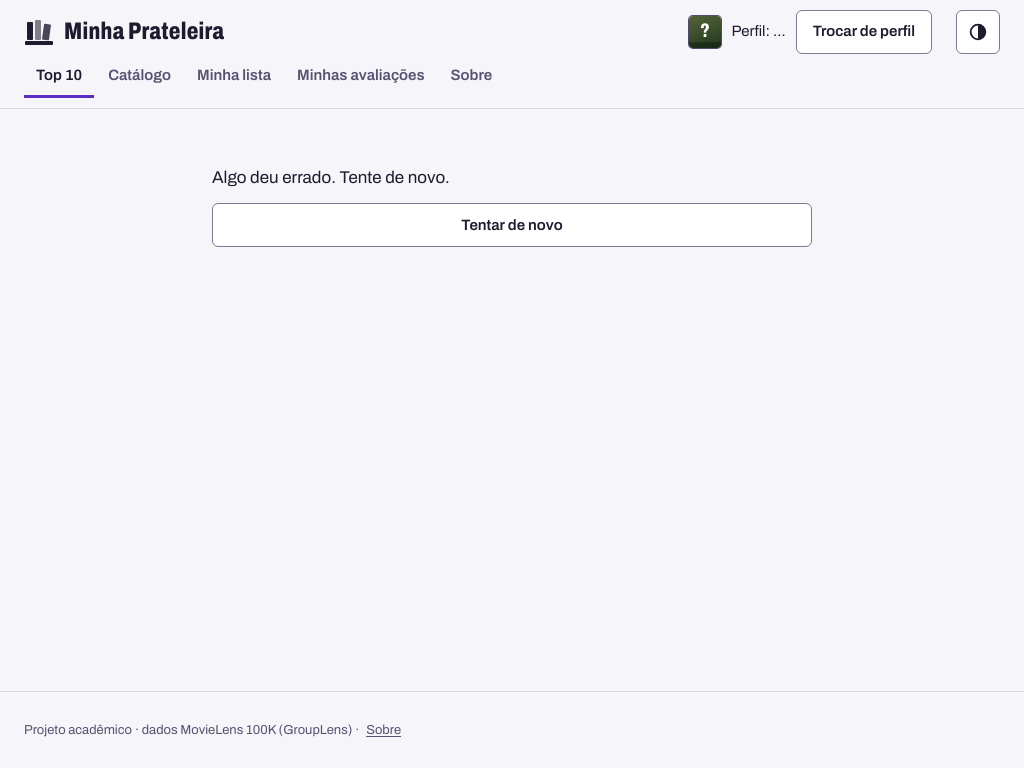
App › falha ao resolver o nome do perfil guardado mostra a mensagem e Tentar de novo refaz
Expected: the message "Algo deu errado. Tente de novo. Tentar de novo" is shown, [212,141,812,247]
Click the button "Tentar de novo".
click(512, 225)  # box [212,203,812,247]
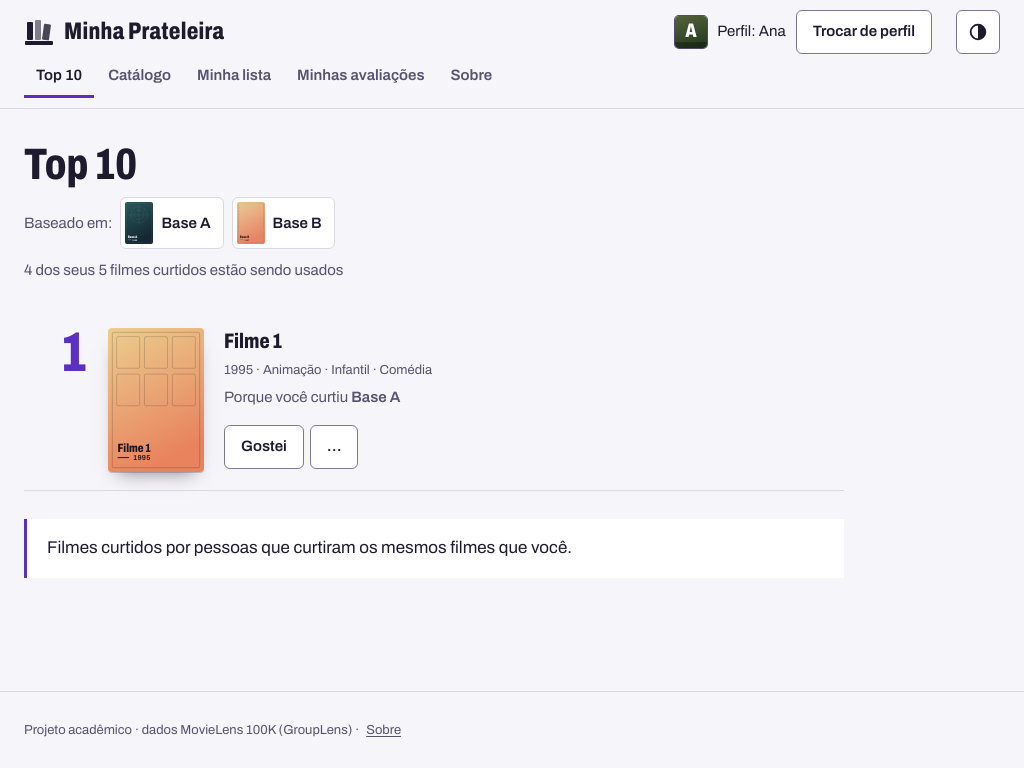
Expected: the text "Perfil: Ana" is shown, [717,20,786,44]
Expected: the button "Tentar de novo" is gone
